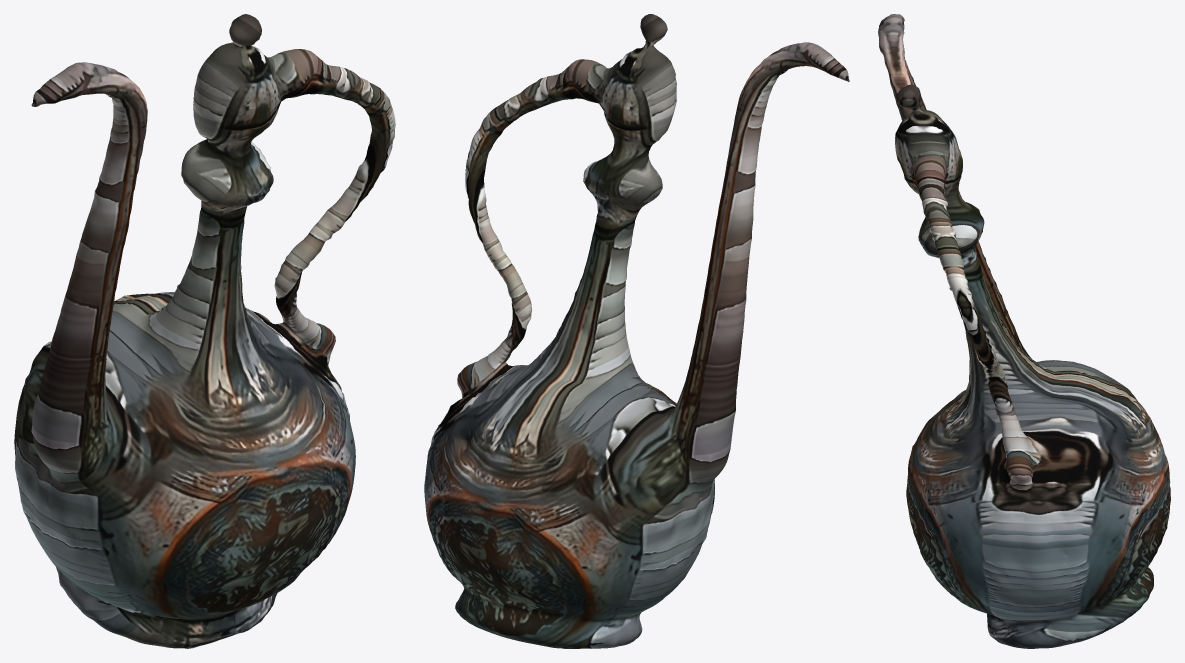
The model's file is kfl-2240.glb.
The picture shows the model from 3 angles, left to right: view 1: azimuth 30°, elevation 25°; view 2: azimuth 150°, elevation 25°; view 3: azimuth 270°, elevation 25°; orthographic projection. The views are drawn at different scales.
Visible parts, largest first — view 1: kfl-2240; view 2: kfl-2240; view 3: kfl-2240.
Part boxes in pixels (x1=…): kfl-2240: x1=14, y1=14, x2=395, y2=648; kfl-2240: x1=424, y1=14, x2=849, y2=648; kfl-2240: x1=878, y1=14, x2=1170, y2=648.
Bounding box in the file's own units: 0.6222 × 0.9917 × 0.4896.
Materials: 1 (1 with a texture image).
